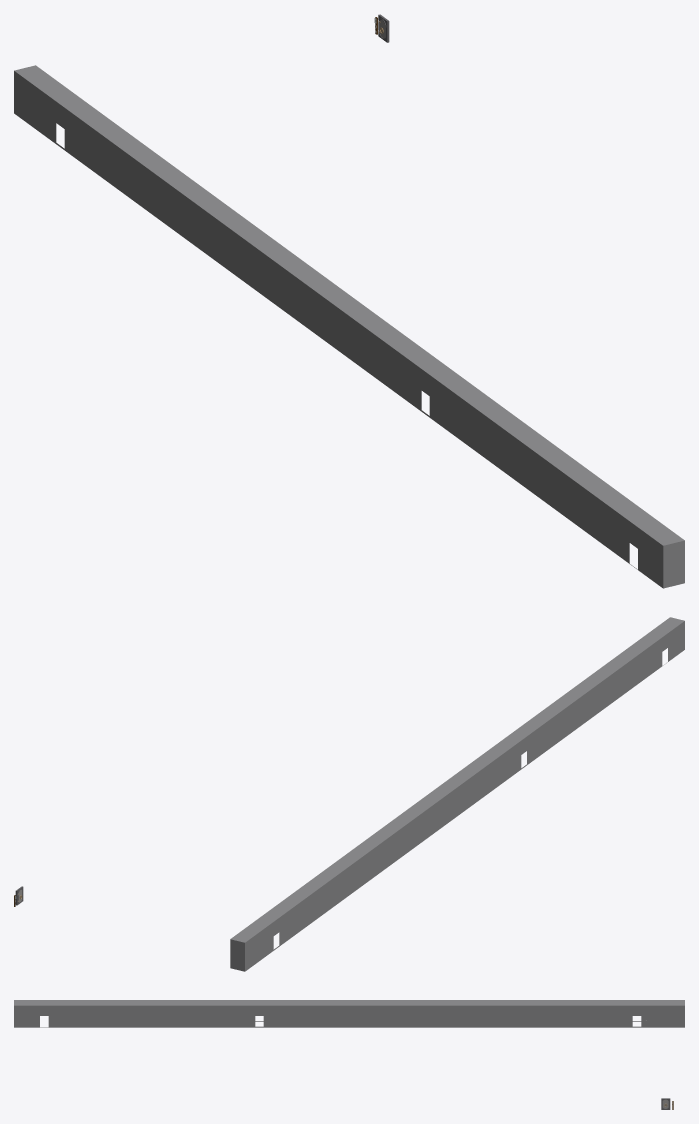
File: Assets.fbx
The picture shows the model from 3 angles, top to bottom: view 1: azimuth 30°, elevation 25°; view 2: azimuth 150°, elevation 25°; view 3: azimuth 270°, elevation 25°; orthographic projection. The views are drawn at different scales.
Visible parts, largest first — view 1: pasted__Hangar_Hallway; view 2: pasted__Hangar_Hallway; view 3: pasted__Hangar_Hallway.
Boxes of the visible parts, x1,y1,x2,y2 form: pasted__Hangar_Hallway: (14, 65, 684, 588); pasted__Hangar_Hallway: (230, 617, 684, 971); pasted__Hangar_Hallway: (14, 1000, 684, 1027).
Size of the model in its own units: 358 by 41.52 by 1142.
Materials: 1 (1 with a texture image).
